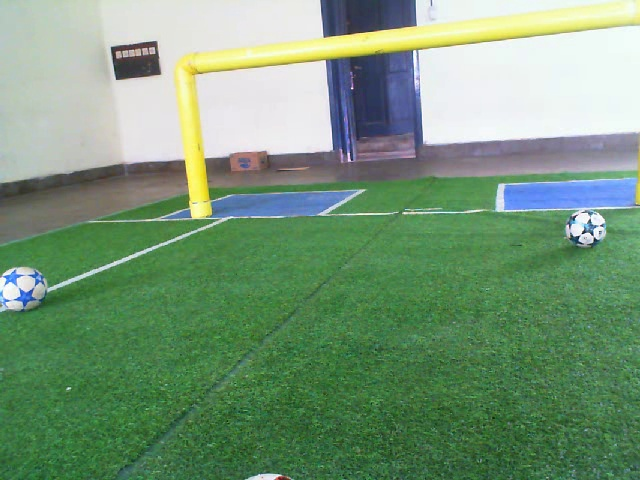ball: (1, 263, 52, 315), (561, 206, 609, 250)
